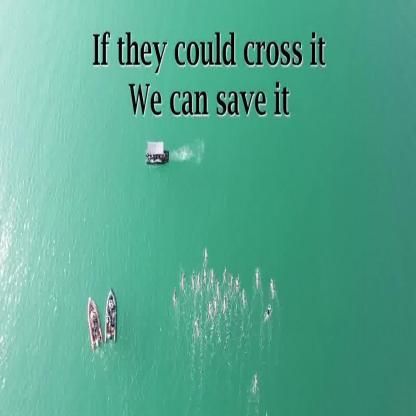Boat: (102, 286, 118, 338), (86, 296, 102, 346)
